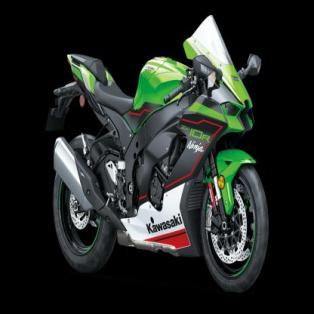Motocicleta: (47, 15, 269, 298)
